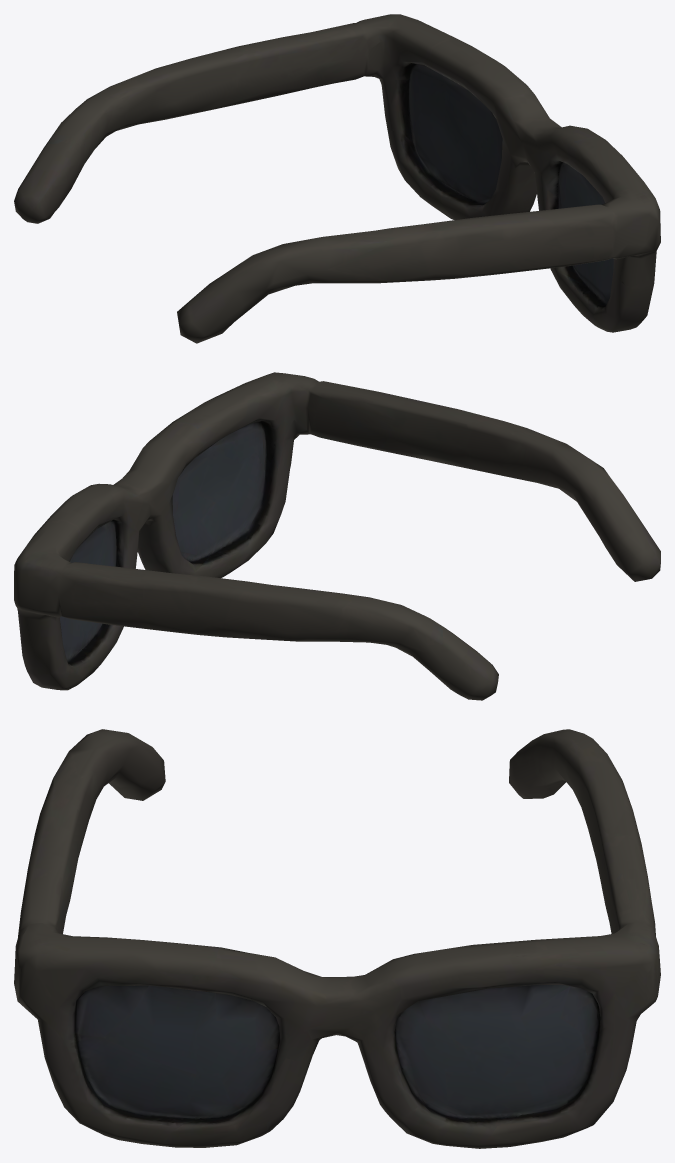
Rendered from x-shades.glb.
The picture shows the model from 3 angles, top to bottom: view 1: azimuth 30°, elevation 25°; view 2: azimuth 150°, elevation 25°; view 3: azimuth 270°, elevation 25°; orthographic projection. The views are drawn at different scales.
Parts seen in each view (by area): view 1: tripo_node_fe43be4a-0cbf-487a-b68b-74922cdad26b; view 2: tripo_node_fe43be4a-0cbf-487a-b68b-74922cdad26b; view 3: tripo_node_fe43be4a-0cbf-487a-b68b-74922cdad26b.
Boxes of the visible parts, x1,y1,x2,y2 form: tripo_node_fe43be4a-0cbf-487a-b68b-74922cdad26b: [14, 14, 660, 343]; tripo_node_fe43be4a-0cbf-487a-b68b-74922cdad26b: [14, 372, 660, 700]; tripo_node_fe43be4a-0cbf-487a-b68b-74922cdad26b: [14, 729, 660, 1148].
Bounding box in the file's own units: 0.9974 × 0.3628 × 1.
1 material, 1 textured.
